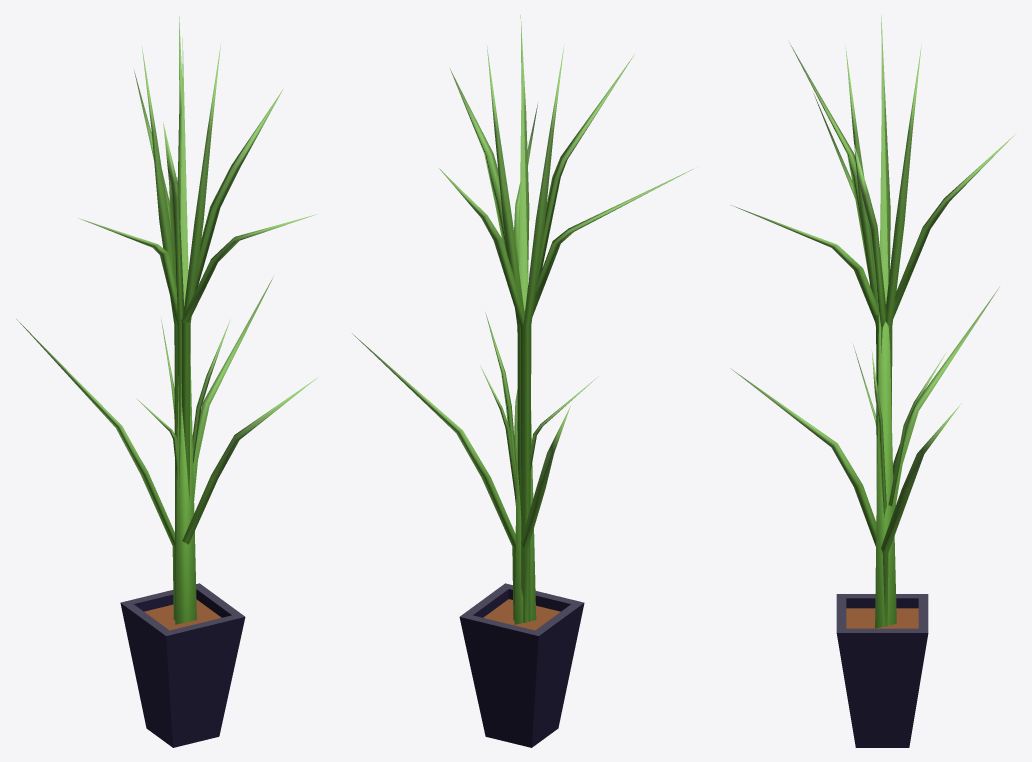
The model's file is pfp19.fbx.
The picture shows the model from 3 angles, left to right: view 1: azimuth 30°, elevation 25°; view 2: azimuth 150°, elevation 25°; view 3: azimuth 270°, elevation 25°; orthographic projection.
Parts seen in each view (by area): view 1: pfp19; view 2: pfp19; view 3: pfp19.
Boxes of the visible parts, x1,y1,x2,y2 form: pfp19: [16, 16, 317, 747]; pfp19: [352, 15, 692, 747]; pfp19: [730, 15, 1016, 747].
Bounding box in the file's own units: 69.93 × 170 × 63.53.
